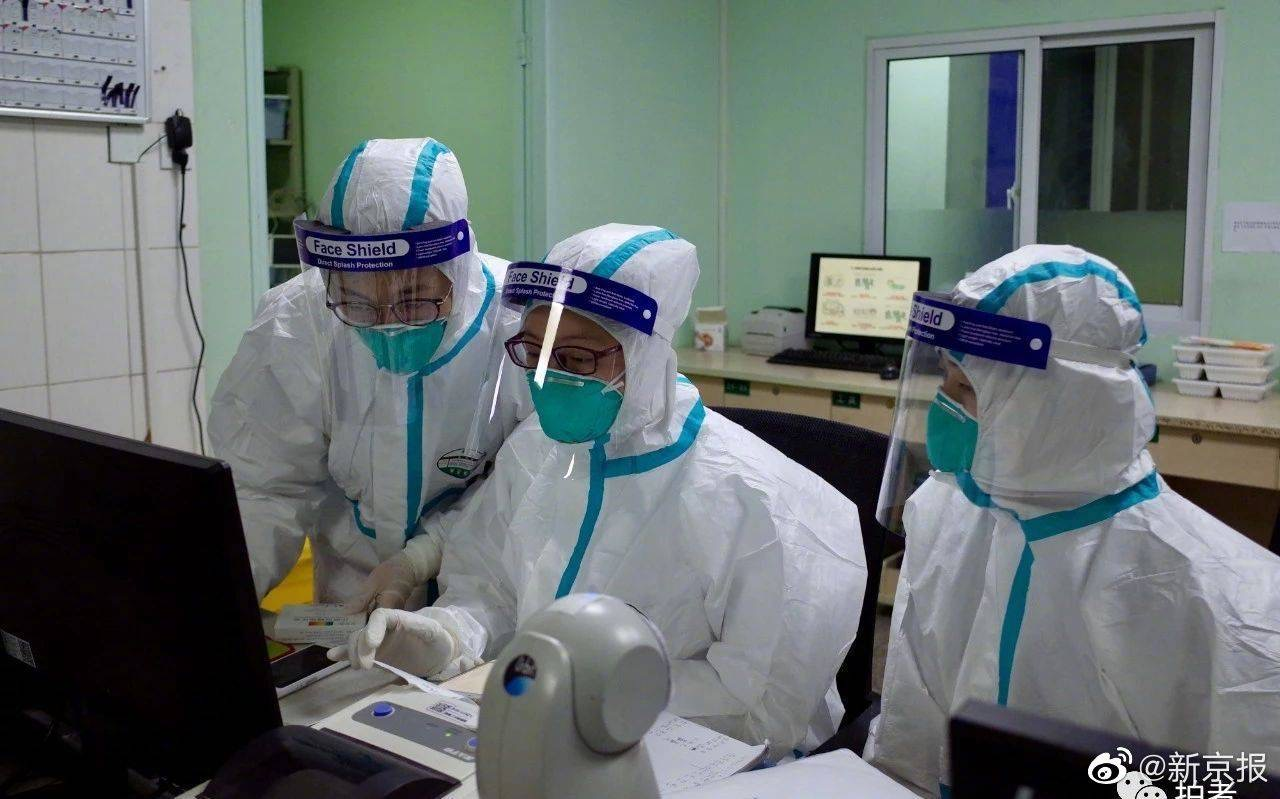rightmask: (905, 237, 1162, 563), (503, 207, 699, 488), (315, 137, 487, 377)
